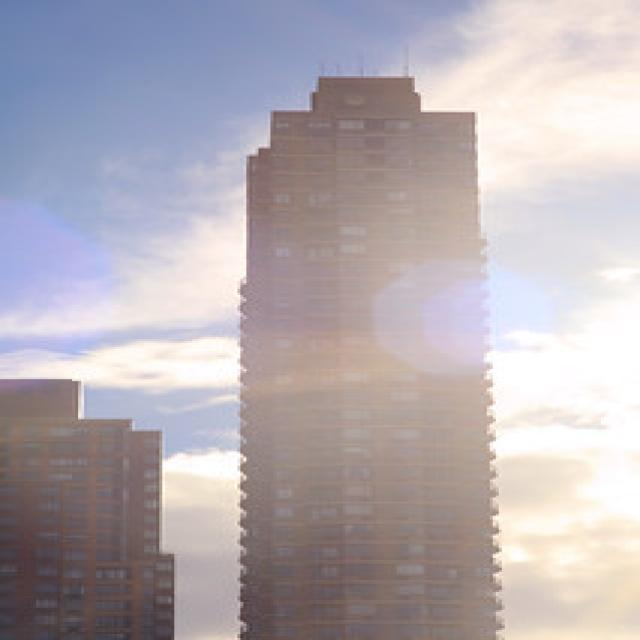building: (230, 67, 506, 639)
